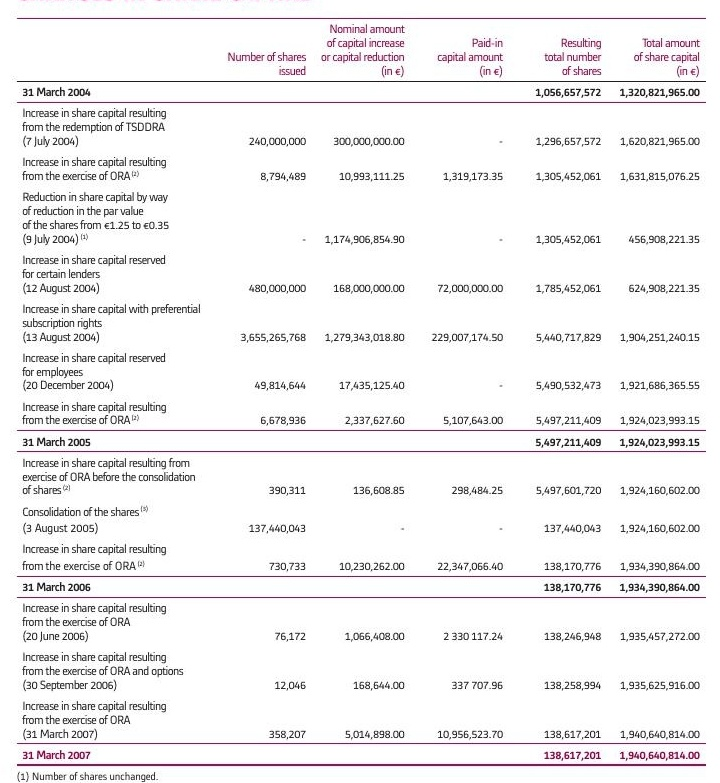table: (0, 0, 720, 783)
